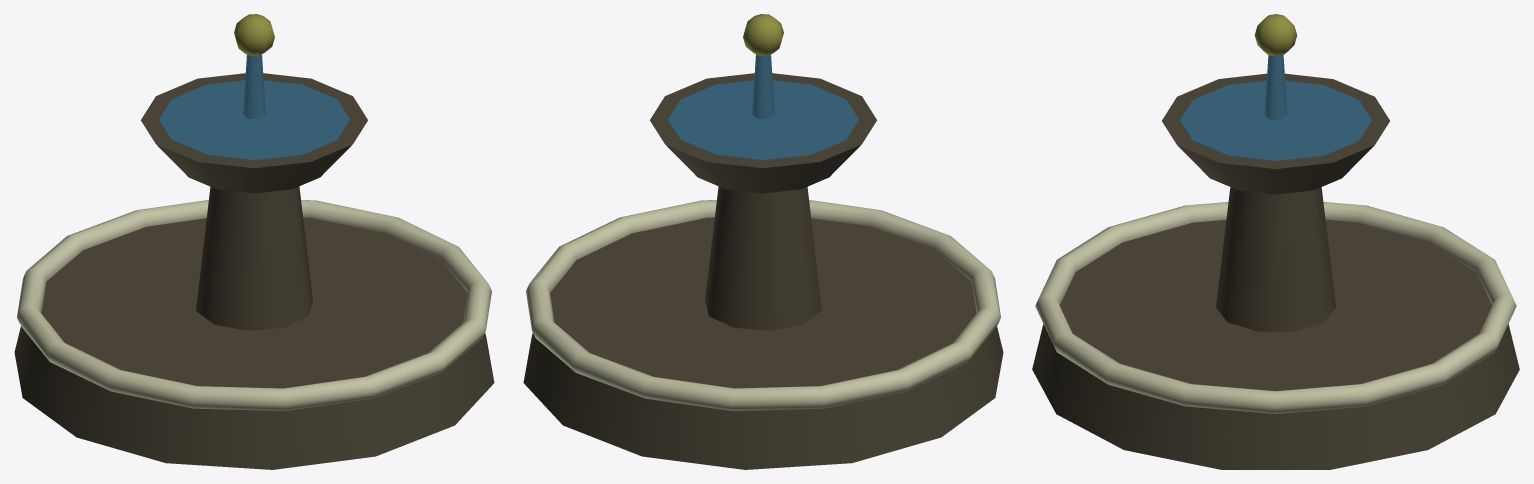
File: village_fountain.glb
The picture shows the model from 3 angles, left to right: view 1: azimuth 30°, elevation 25°; view 2: azimuth 150°, elevation 25°; view 3: azimuth 270°, elevation 25°; orthographic projection.
Parts seen in each view (by area): view 1: ft_basin, ft_rim, ft_pedestal, ft_bowl_water, ft_bowl, ft_finial, ft_jet; view 2: ft_basin, ft_rim, ft_pedestal, ft_bowl_water, ft_bowl, ft_finial, ft_jet; view 3: ft_basin, ft_rim, ft_pedestal, ft_bowl_water, ft_bowl, ft_finial, ft_jet.
Part boxes in pixels (left/top/right/bottom): ft_basin: left=14, top=217, right=494, bottom=469; ft_rim: left=17, top=200, right=491, bottom=410; ft_pedestal: left=196, top=186, right=312, bottom=330; ft_bowl_water: left=159, top=80, right=349, bottom=160; ft_bowl: left=141, top=73, right=367, bottom=193; ft_finial: left=234, top=14, right=274, bottom=55; ft_jet: left=243, top=54, right=265, bottom=118; ft_basin: left=523, top=217, right=1003, bottom=469; ft_rim: left=526, top=200, right=1000, bottom=410; ft_pedestal: left=705, top=186, right=821, bottom=330; ft_bowl_water: left=668, top=80, right=858, bottom=160; ft_bowl: left=650, top=73, right=876, bottom=193; ft_finial: left=743, top=14, right=783, bottom=55; ft_jet: left=752, top=54, right=774, bottom=118; ft_basin: left=1032, top=220, right=1519, bottom=469; ft_rim: left=1035, top=202, right=1516, bottom=413; ft_pedestal: left=1216, top=187, right=1335, bottom=331; ft_bowl_water: left=1180, top=80, right=1371, bottom=161; ft_bowl: left=1162, top=73, right=1389, bottom=194; ft_finial: left=1254, top=14, right=1297, bottom=56; ft_jet: left=1264, top=55, right=1287, bottom=119.
Size of the model in its own units: 3.16 by 2.56 by 3.2.
